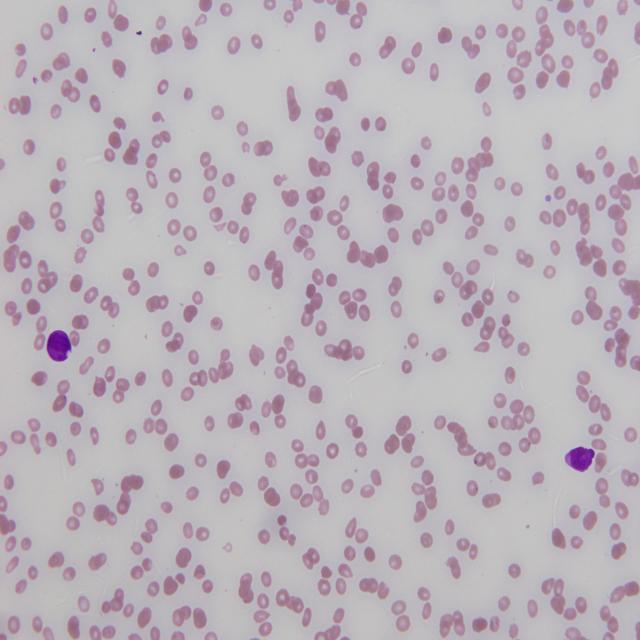cell: (565, 446, 595, 472)
